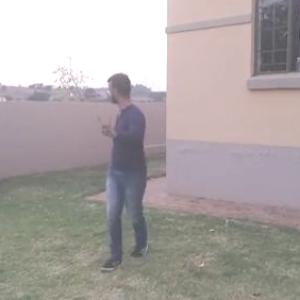takeoff-hand: (95, 110, 121, 142)
